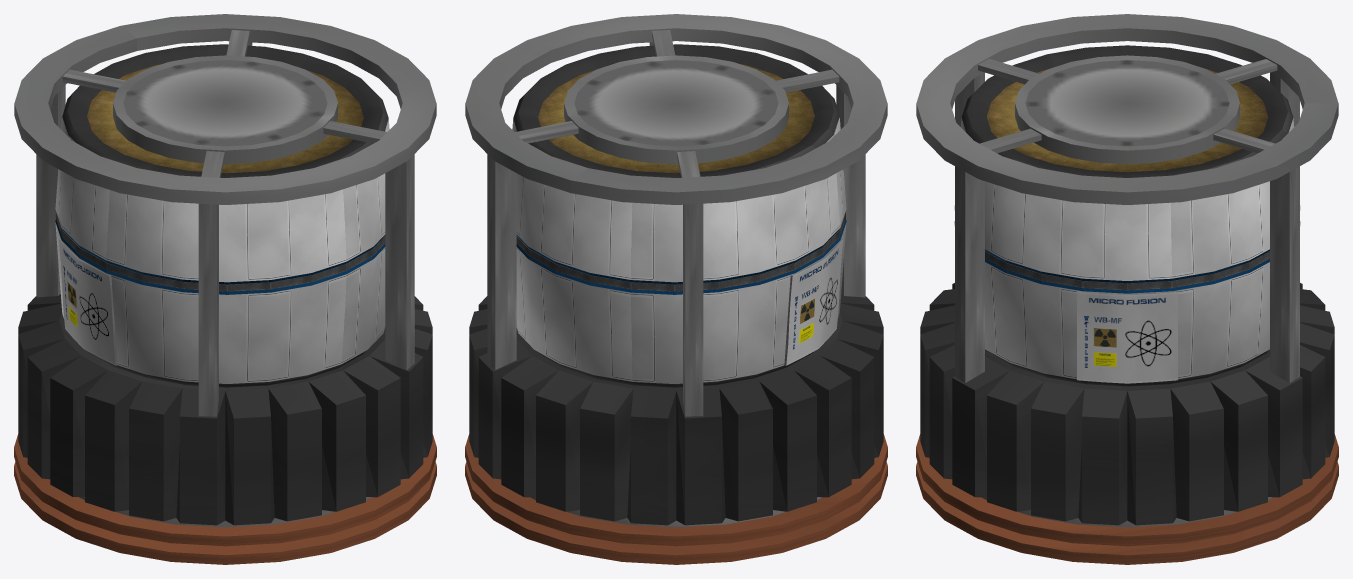
File: MicroFusion.FBX
3 renders of one model, left to right at view 1: azimuth 30°, elevation 25°; view 2: azimuth 150°, elevation 25°; view 3: azimuth 270°, elevation 25°, orthographic.
Parts seen in each view (by area): view 1: CounterSpinSection002, Radiator, Tube001, EndCap011, CopperTube003, CopperTube001, Box007, Box023, Box004, Box008, GlowRing, Box010 (+1 smaller); view 2: CounterSpinSection002, Radiator, Tube001, EndCap011, CopperTube003, CopperTube001, Box009, Box023, Box008, Box004, GlowRing, Box006 (+1 smaller); view 3: Radiator, CounterSpinSection002, Tube001, EndCap011, CopperTube003, Box024, CopperTube001, Box009, Box007, GlowRing, Box010, Box006 (+2 smaller).
Part boxes in pixels (box(x1,y1,x2,y2)): CounterSpinSection002: box(55, 44, 389, 387); Radiator: box(18, 294, 432, 527); Tube001: box(14, 14, 436, 204); EndCap011: box(113, 55, 337, 164); CopperTube003: box(14, 434, 436, 546); CopperTube001: box(14, 462, 436, 564); Box007: box(385, 154, 414, 370); Box023: box(59, 238, 117, 365); Box004: box(198, 203, 218, 416); Box008: box(36, 85, 65, 297); GlowRing: box(56, 212, 385, 291); Box010: box(62, 69, 386, 143); CounterSpinSection002: box(512, 44, 846, 387); Radiator: box(469, 294, 883, 527); Tube001: box(465, 14, 887, 204); EndCap011: box(564, 55, 788, 164); CopperTube003: box(465, 434, 887, 546); CopperTube001: box(465, 462, 887, 564); Box009: box(487, 154, 516, 370); Box023: box(784, 238, 842, 365); Box008: box(683, 203, 703, 416); Box004: box(836, 85, 865, 297); GlowRing: box(516, 212, 845, 291); Box006: box(515, 69, 839, 143); Radiator: box(920, 283, 1334, 527); CounterSpinSection002: box(954, 45, 1300, 386); Tube001: box(916, 14, 1338, 204); EndCap011: box(1015, 55, 1239, 164); CopperTube003: box(916, 434, 1338, 546); Box024: box(1077, 291, 1177, 383); CopperTube001: box(916, 462, 1338, 564); Box009: box(1270, 166, 1299, 382); Box007: box(955, 166, 984, 382); GlowRing: box(985, 252, 1269, 290); Box010: box(980, 59, 1277, 153); Box006: box(978, 59, 1275, 153).
Size of what is drawn, in the model's own units: 0.6262 by 0.6262 by 0.6166.
Materials: 1 (1 with a texture image).
